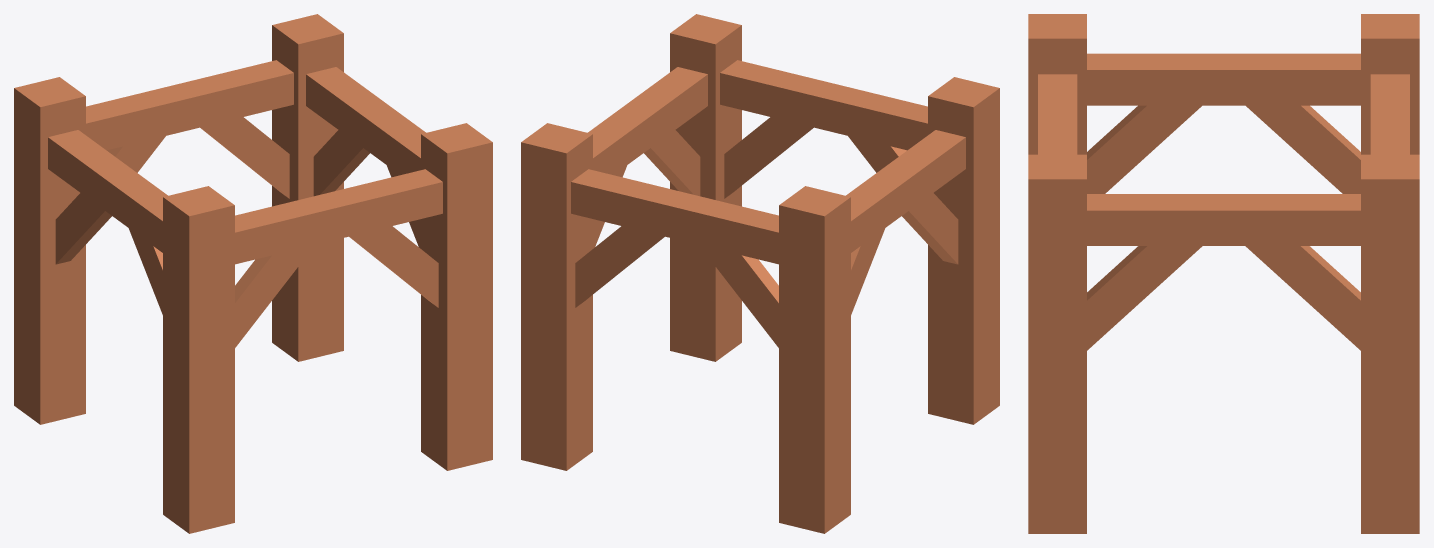
File: wood-structure.glb
The picture shows the model from 3 angles, left to right: view 1: azimuth 30°, elevation 25°; view 2: azimuth 150°, elevation 25°; view 3: azimuth 270°, elevation 25°; orthographic projection. The views are drawn at different scales.
Visible parts, largest first — view 1: wood-structure; view 2: wood-structure; view 3: wood-structure.
Boxes of the visible parts, x1,y1,x2,y2 form: wood-structure: (14,14,492,533); wood-structure: (521,14,999,533); wood-structure: (1028,14,1419,533).
Size of the model in its own units: 1 by 1 by 1.
